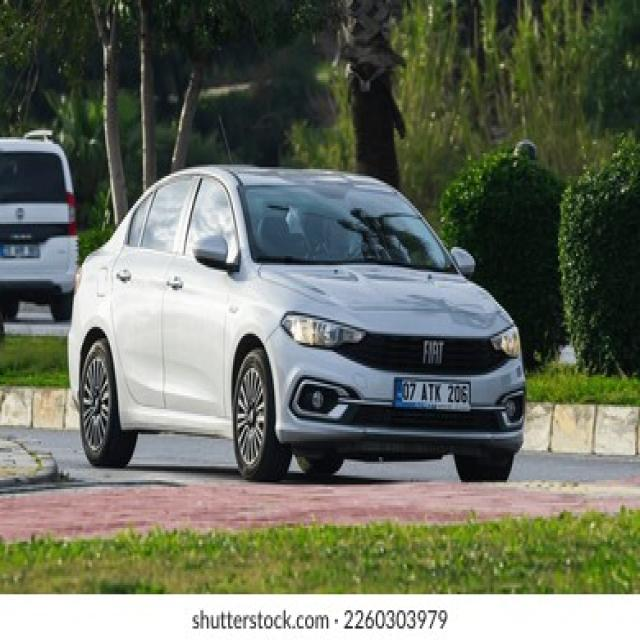fiat: (417, 334, 450, 374)
